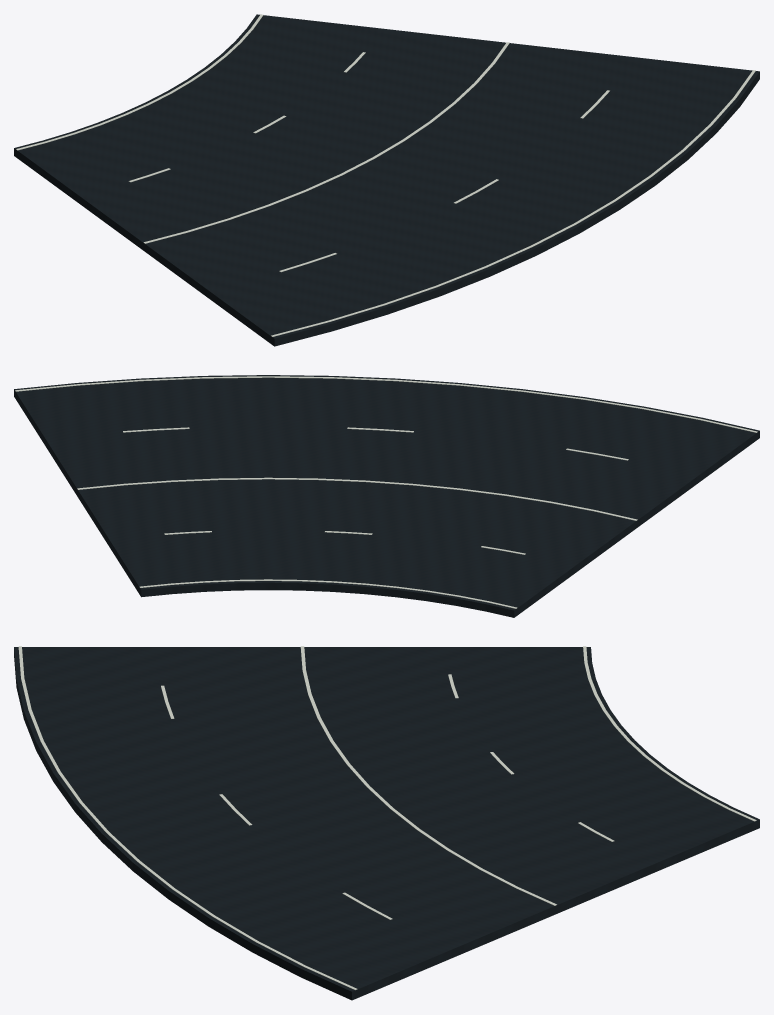
File: Transit_Road_4L_Curve45_R18.glb
The picture shows the model from 3 angles, top to bottom: view 1: azimuth 30°, elevation 25°; view 2: azimuth 150°, elevation 25°; view 3: azimuth 270°, elevation 25°; orthographic projection. The views are drawn at different scales.
Visible parts, largest first — view 1: Transit_Road_4L_Curve45_R18_Surface, Transit_Road_4L_Curve45_R18_MarkEdge-1, Transit_Road_4L_Curve45_R18_MarkLane2, Transit_Road_4L_Curve45_R18_MarkEdge+1; view 2: Transit_Road_4L_Curve45_R18_Surface, Transit_Road_4L_Curve45_R18_MarkEdge-1, Transit_Road_4L_Curve45_R18_MarkLane2, Transit_Road_4L_Curve45_R18_MarkEdge+1, Transit_Road_4L_Curve45_R18_MarkLane1; view 3: Transit_Road_4L_Curve45_R18_Surface, Transit_Road_4L_Curve45_R18_MarkEdge-1, Transit_Road_4L_Curve45_R18_MarkLane2, Transit_Road_4L_Curve45_R18_MarkEdge+1.
Part boxes in pixels (x1,y1,x2,y2): Transit_Road_4L_Curve45_R18_Surface: (14, 14, 759, 346); Transit_Road_4L_Curve45_R18_MarkEdge-1: (271, 70, 755, 336); Transit_Road_4L_Curve45_R18_MarkLane2: (143, 42, 509, 243); Transit_Road_4L_Curve45_R18_MarkEdge+1: (16, 14, 263, 150); Transit_Road_4L_Curve45_R18_Surface: (14, 375, 759, 617); Transit_Road_4L_Curve45_R18_MarkEdge-1: (15, 376, 757, 432); Transit_Road_4L_Curve45_R18_MarkLane2: (77, 477, 637, 520); Transit_Road_4L_Curve45_R18_MarkEdge+1: (139, 579, 517, 608); Transit_Road_4L_Curve45_R18_MarkLane1: (123, 427, 628, 460); Transit_Road_4L_Curve45_R18_Surface: (14, 647, 759, 1000); Transit_Road_4L_Curve45_R18_MarkEdge-1: (18, 646, 357, 990); Transit_Road_4L_Curve45_R18_MarkLane2: (300, 646, 556, 905); Transit_Road_4L_Curve45_R18_MarkEdge+1: (583, 646, 756, 821).
Bounding box in the file's own units: 16.97 × 0.212 × 15.51.
Materials: 2 (1 with a texture image).
